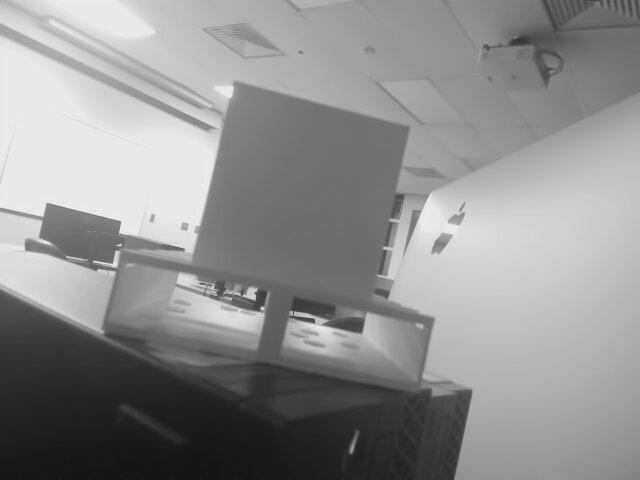white pallet: (101, 61, 442, 412)
